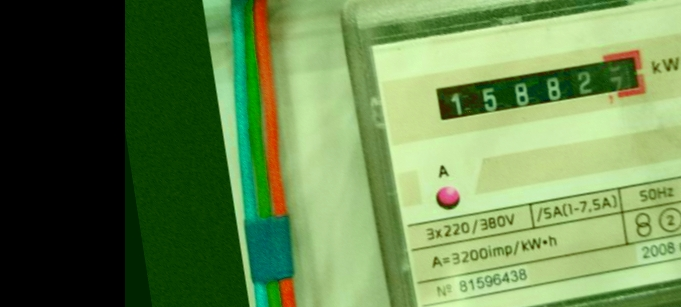1: (449, 86, 466, 116)
2: (574, 67, 595, 95)
5: (480, 82, 501, 115)
7: (608, 71, 624, 90)
8: (511, 78, 531, 108), (544, 72, 564, 102)
screen: (422, 38, 655, 133)
